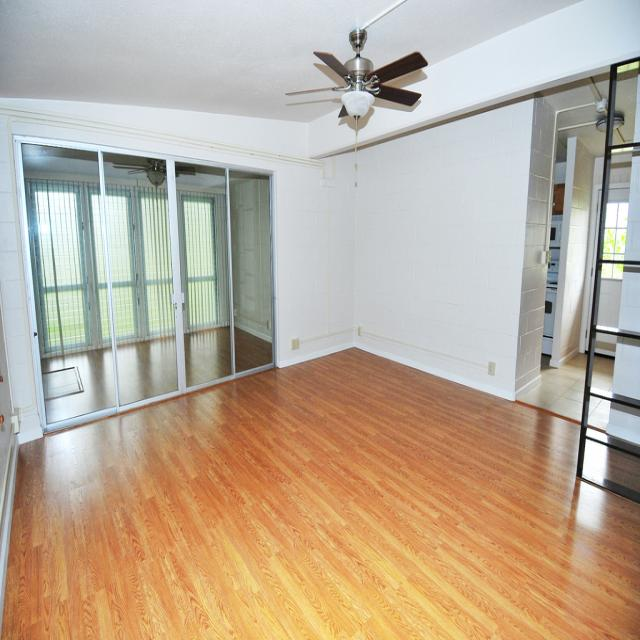Bulb: (287, 19, 434, 145)
